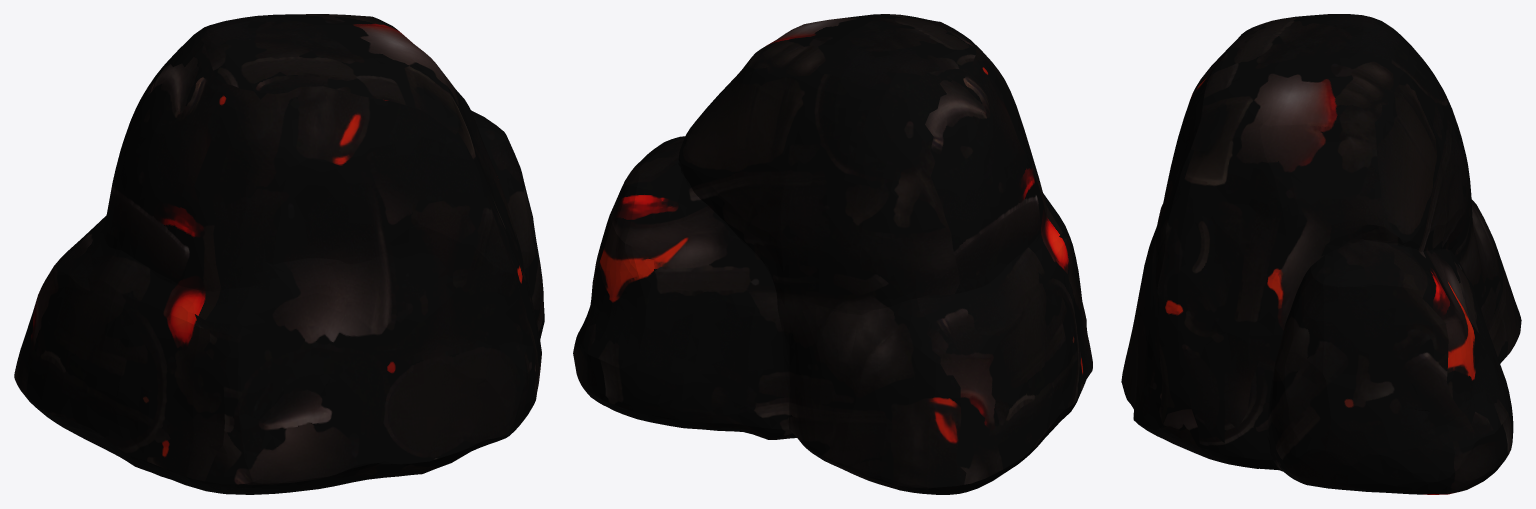
The picture shows the model from 3 angles, left to right: view 1: azimuth 30°, elevation 25°; view 2: azimuth 150°, elevation 25°; view 3: azimuth 270°, elevation 25°; orthographic projection. The views are drawn at different scales.
Parts seen in each view (by area): view 1: geometry_0_Baked; view 2: geometry_0_Baked; view 3: geometry_0_Baked.
Boxes of the visible parts, box(x1,y1,x2,y2) form: geometry_0_Baked: box(14, 14, 544, 494); geometry_0_Baked: box(573, 14, 1092, 494); geometry_0_Baked: box(1121, 14, 1521, 494).
Bounding box in the file's own units: 73.42 × 57.74 × 59.61.
